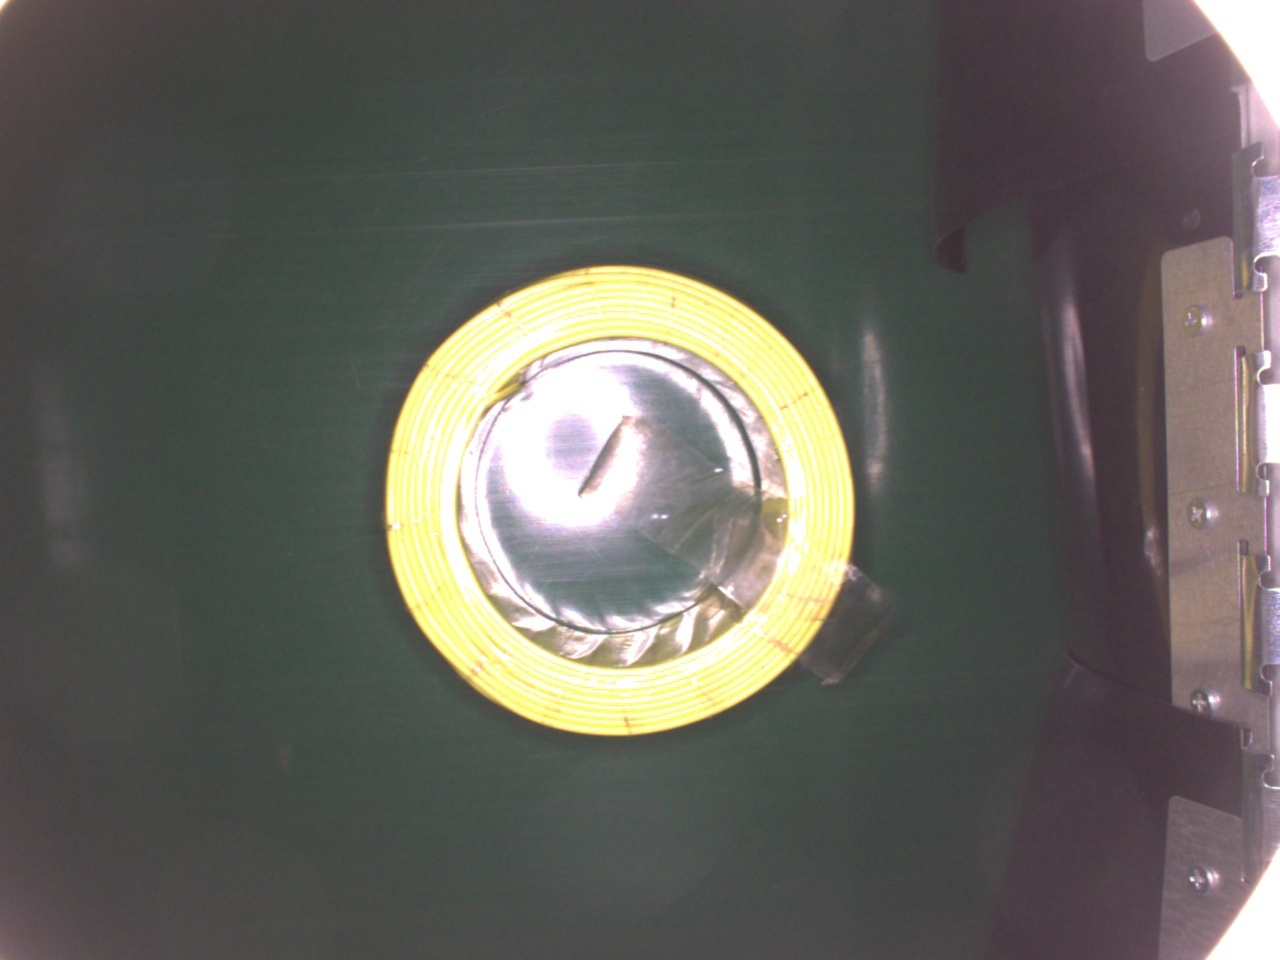yellow: (384, 261, 854, 735)
